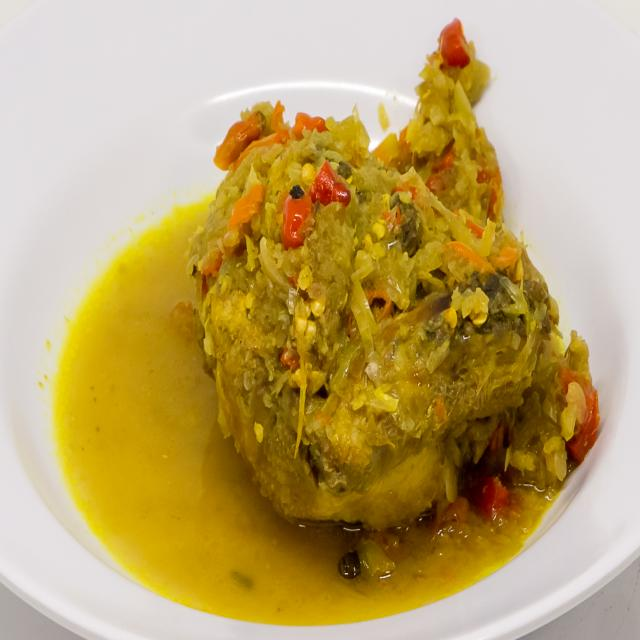Ayam-Betutu: (180, 7, 606, 557)
